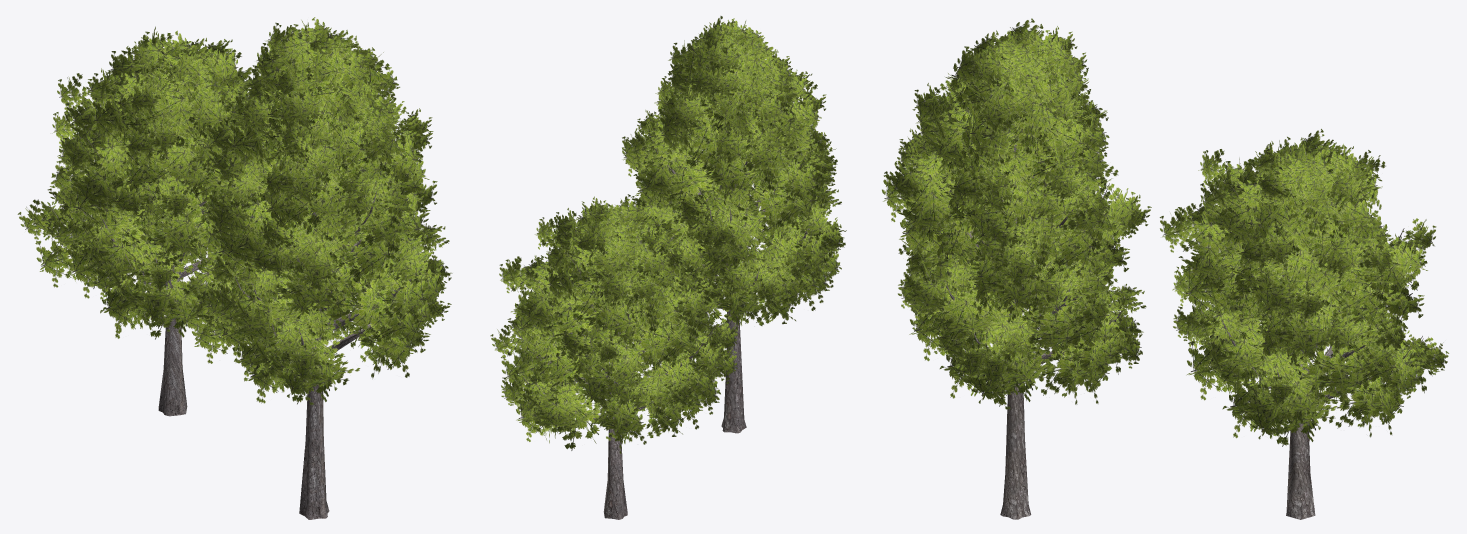
Rendered from trees.glb.
The picture shows the model from 3 angles, left to right: view 1: azimuth 30°, elevation 25°; view 2: azimuth 150°, elevation 25°; view 3: azimuth 270°, elevation 25°; orthographic projection. The views are drawn at different scales.
Visible parts, largest first — view 1: tree4, tree6; view 2: tree4, tree6; view 3: tree4, tree6.
Part boxes in pixels (x1=…): tree4: x1=177, y1=17, x2=452, y2=519; tree6: x1=17, y1=26, x2=311, y2=416; tree4: x1=622, y1=16, x2=846, y2=433; tree6: x1=490, y1=194, x2=737, y2=519; tree4: x1=882, y1=18, x2=1151, y2=519; tree6: x1=1159, y1=129, x2=1448, y2=519.
Size of the model in its own units: 580 by 1036 by 1100.
2 materials, 2 textured.
